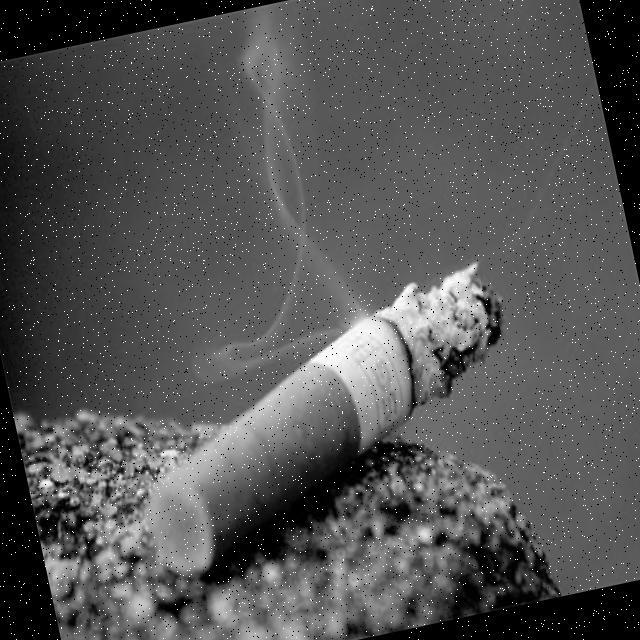cigarette: (92, 219, 577, 591)
